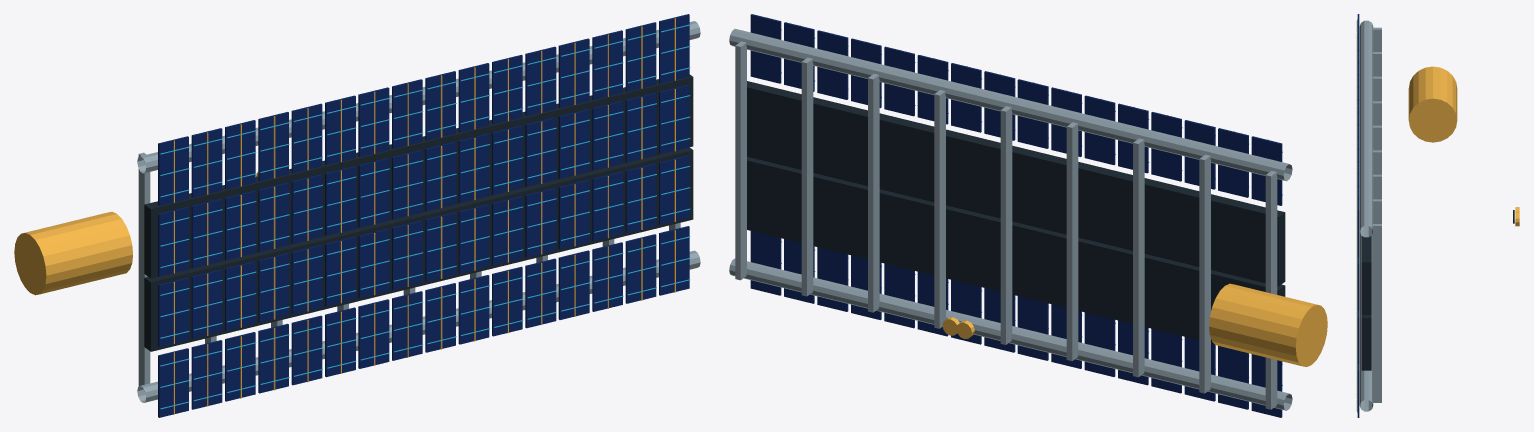
File: 09_L84_StarboardSolarArrayWing.fbx
The picture shows the model from 3 angles, left to right: view 1: azimuth 30°, elevation 25°; view 2: azimuth 150°, elevation 25°; view 3: azimuth 270°, elevation 25°; orthographic projection. The views are drawn at different scales.
Visible parts, largest first — view 1: L84_StarboardSolarArrayWing; view 2: L84_StarboardSolarArrayWing; view 3: L84_StarboardSolarArrayWing.
Part boxes in pixels (box(x1,y1,x2,y2)): L84_StarboardSolarArrayWing: box(14, 14, 700, 417); L84_StarboardSolarArrayWing: box(729, 14, 1327, 417); L84_StarboardSolarArrayWing: box(1356, 14, 1457, 417).
Size of the model in its own units: 516 by 217 by 155.
